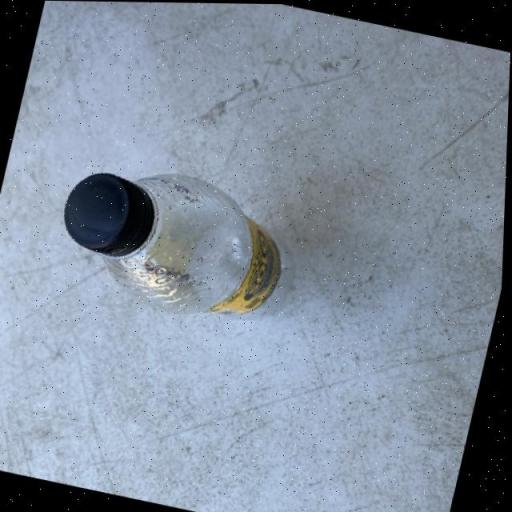plastic: (46, 149, 305, 333)
